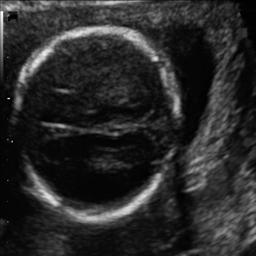normal: (11, 22, 186, 227)
